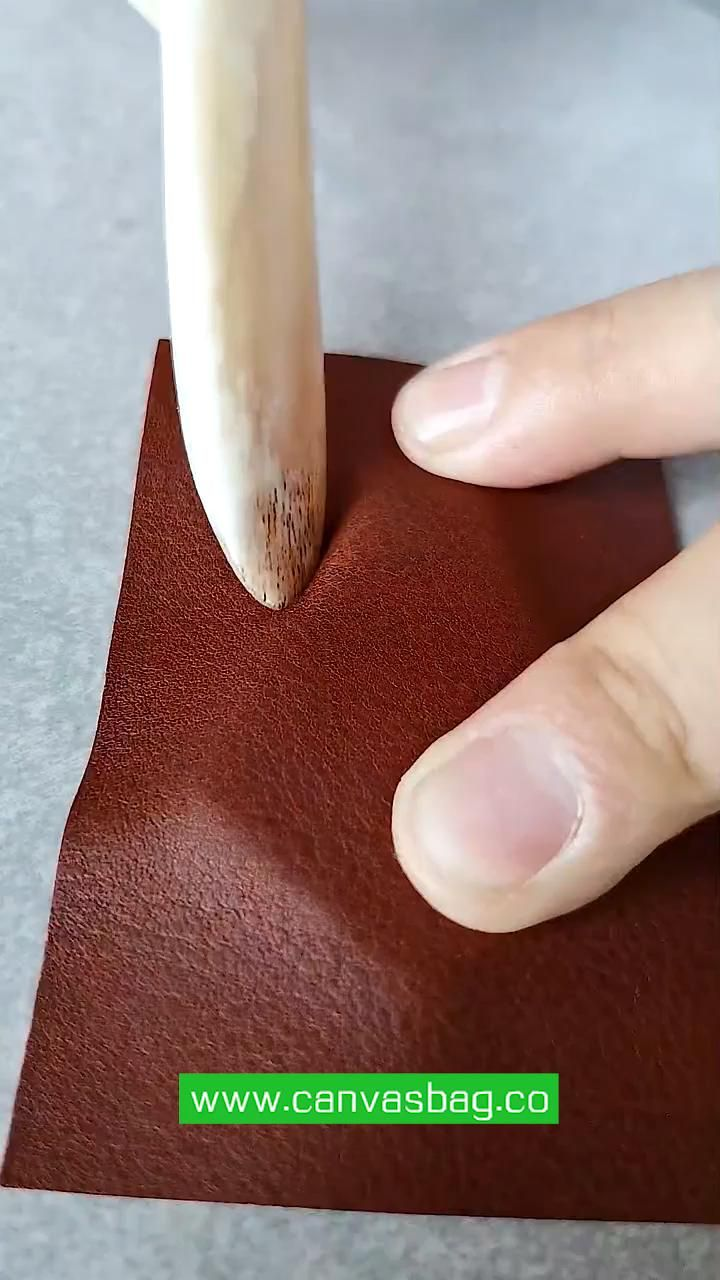cuero: (1, 333, 720, 1228)
